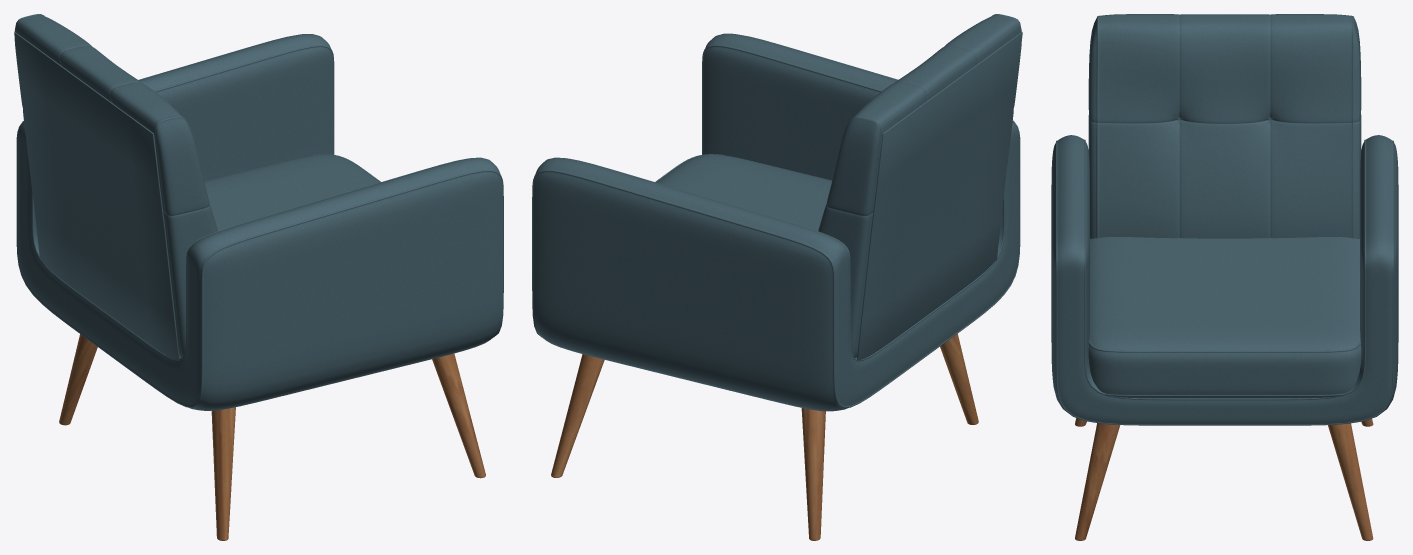
Rendered from armchair.glb.
3 renders of one model, left to right at view 1: azimuth 30°, elevation 25°; view 2: azimuth 150°, elevation 25°; view 3: azimuth 270°, elevation 25°, orthographic. The views are drawn at different scales.
Parts seen in each view (by area): view 1: Plane.001; view 2: Plane.001; view 3: Plane.001.
Boxes of the visible parts, box(x1,y1,x2,y2) form: Plane.001: box(14, 14, 503, 540); Plane.001: box(532, 14, 1022, 540); Plane.001: box(1051, 14, 1398, 540).
Bounding box in the file's own units: 0.6985 × 0.856 × 0.696.
Materials: 1 (1 with a texture image).
